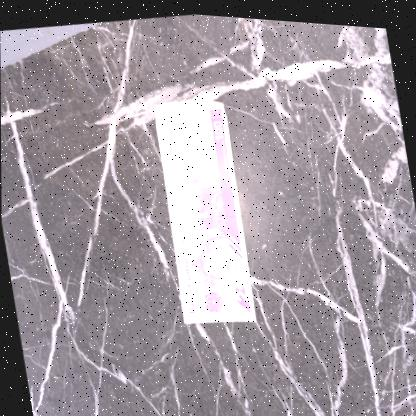one_hundred-back-vef: (146, 89, 260, 330)
